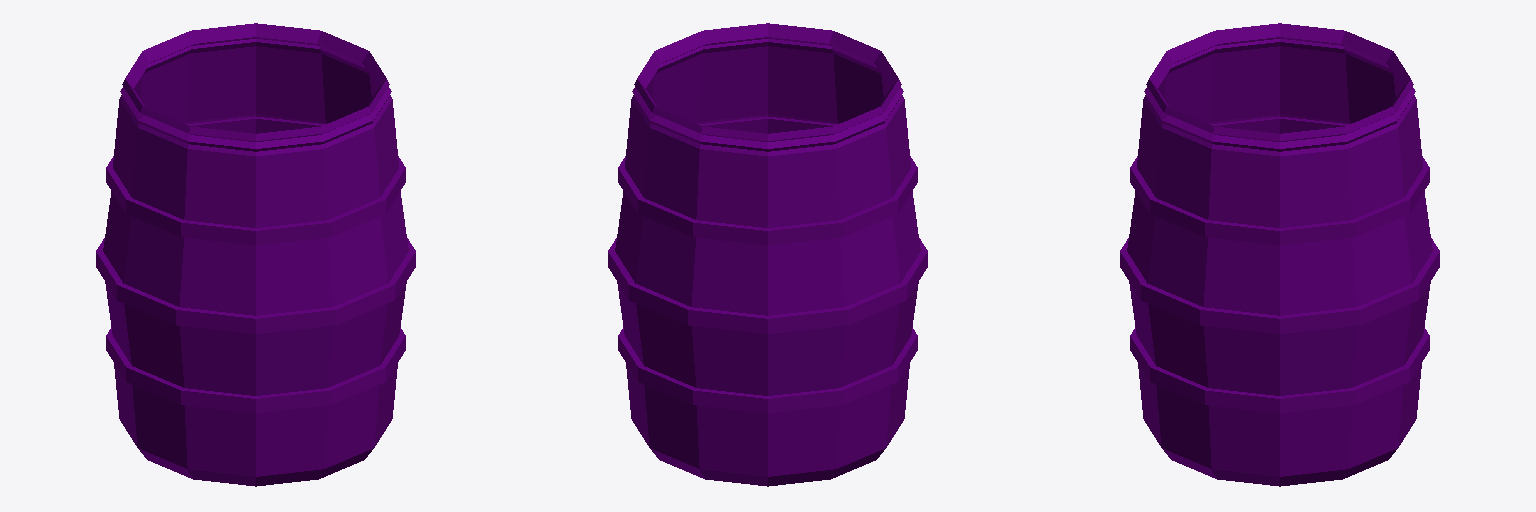
File: Water_Barrel_001.obj
3 renders of one model, left to right at view 1: azimuth 30°, elevation 25°; view 2: azimuth 150°, elevation 25°; view 3: azimuth 270°, elevation 25°, orthographic.
Visible parts, largest first — view 1: Cylinder001; view 2: Cylinder001; view 3: Cylinder001.
Boxes of the visible parts, x1,y1,x2,y2 form: Cylinder001: [96, 23, 415, 486]; Cylinder001: [608, 23, 927, 486]; Cylinder001: [1120, 23, 1439, 486].
Bounding box in the file's own units: 50.91 × 62.3 × 50.91.